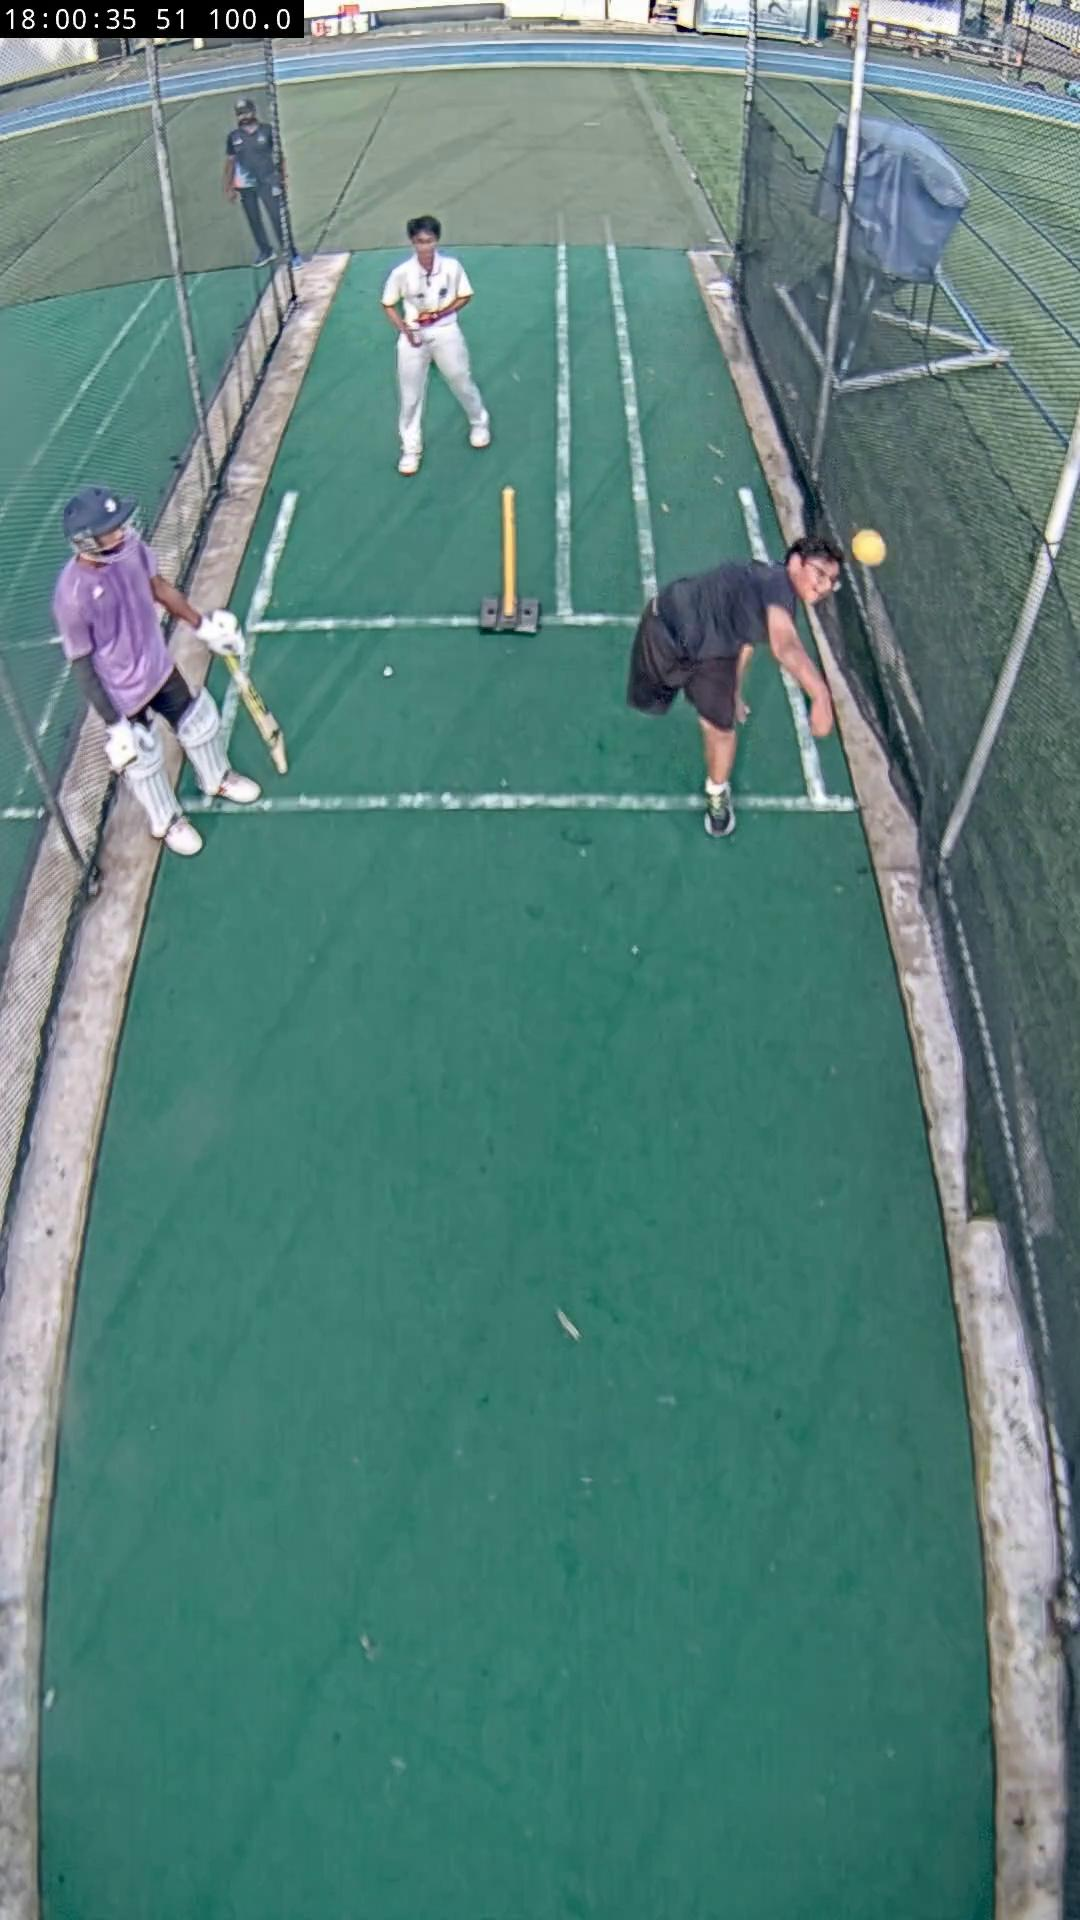ball: (852, 529, 885, 566)
stumps: (480, 488, 541, 634)
